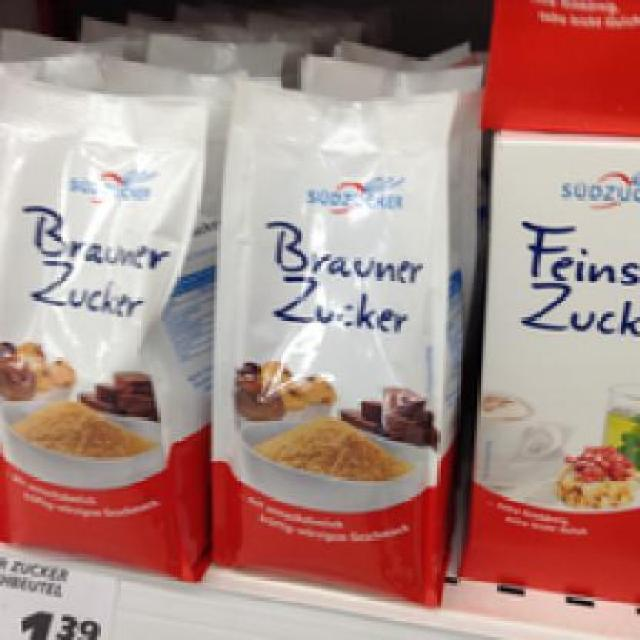Sugar: (211, 77, 466, 606), (0, 66, 212, 584), (460, 127, 637, 604)
